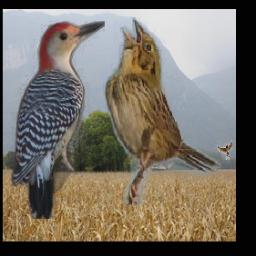Sparrow: (103, 18, 221, 206)
Swallow: (218, 138, 233, 160)
Woodpecker: (12, 21, 106, 219)
